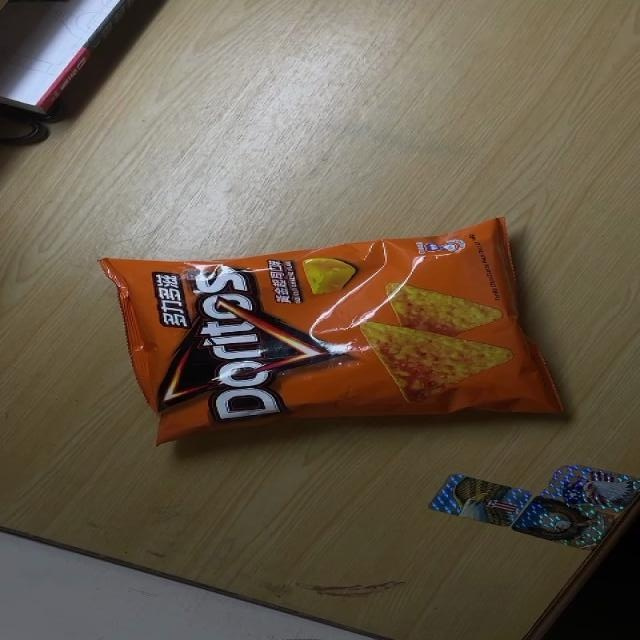Doritos: (98, 216, 566, 444)
